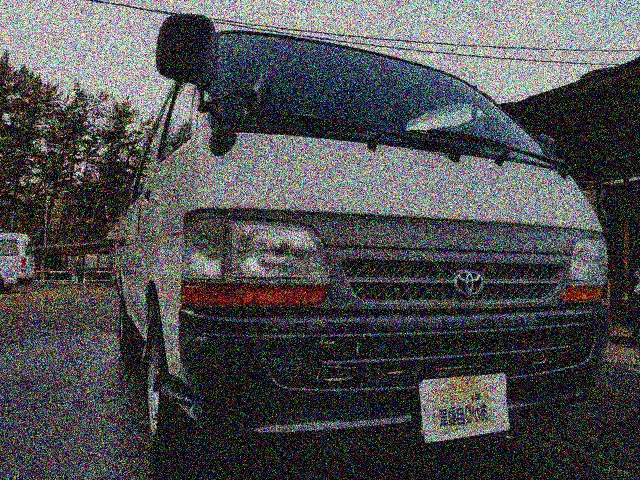van: (97, 21, 612, 459)
